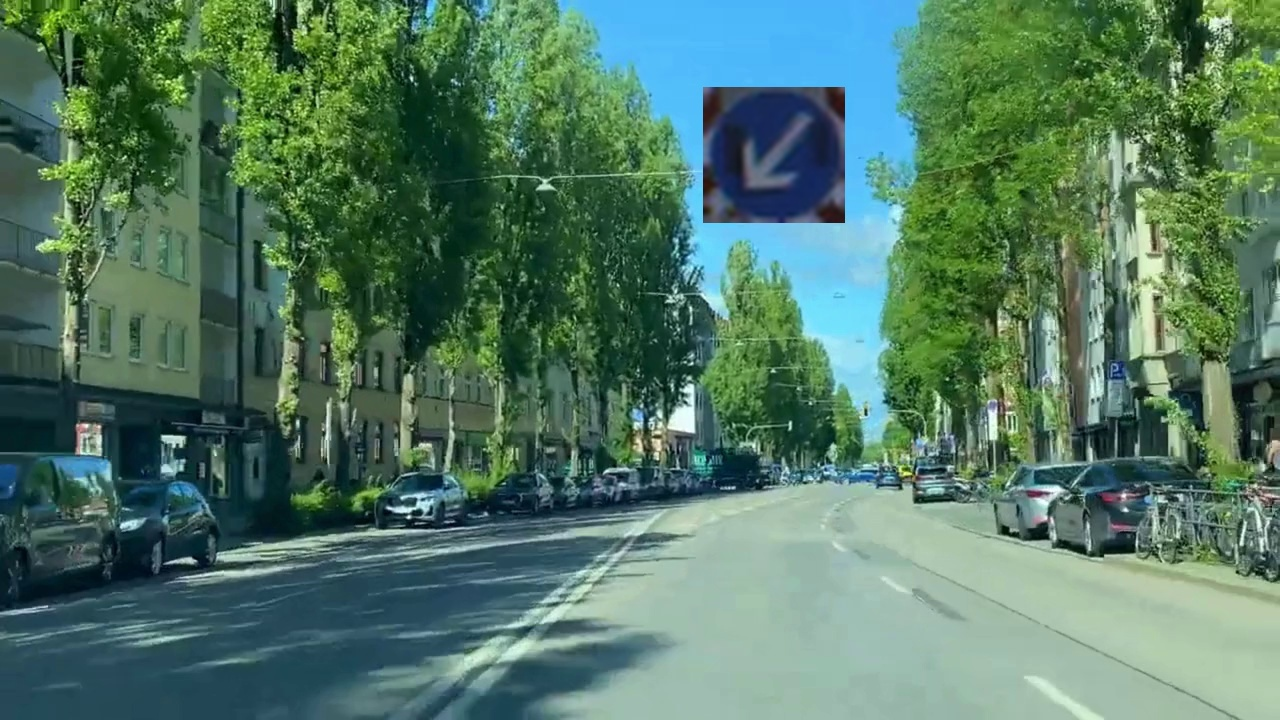Keep left: (703, 87, 845, 223)
